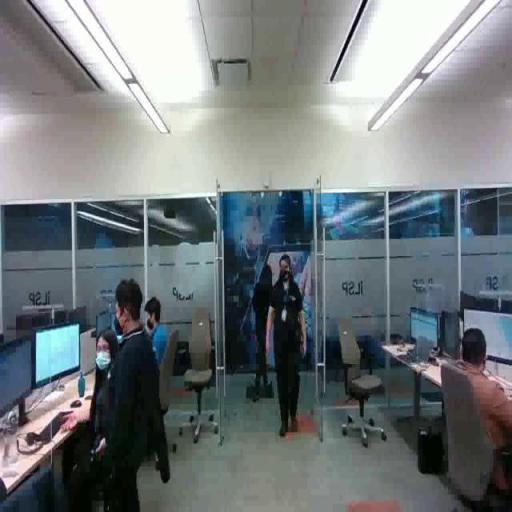person: (443, 323, 512, 504), (104, 282, 155, 512), (266, 256, 311, 440), (84, 332, 128, 493), (139, 295, 182, 393), (252, 256, 276, 398)
